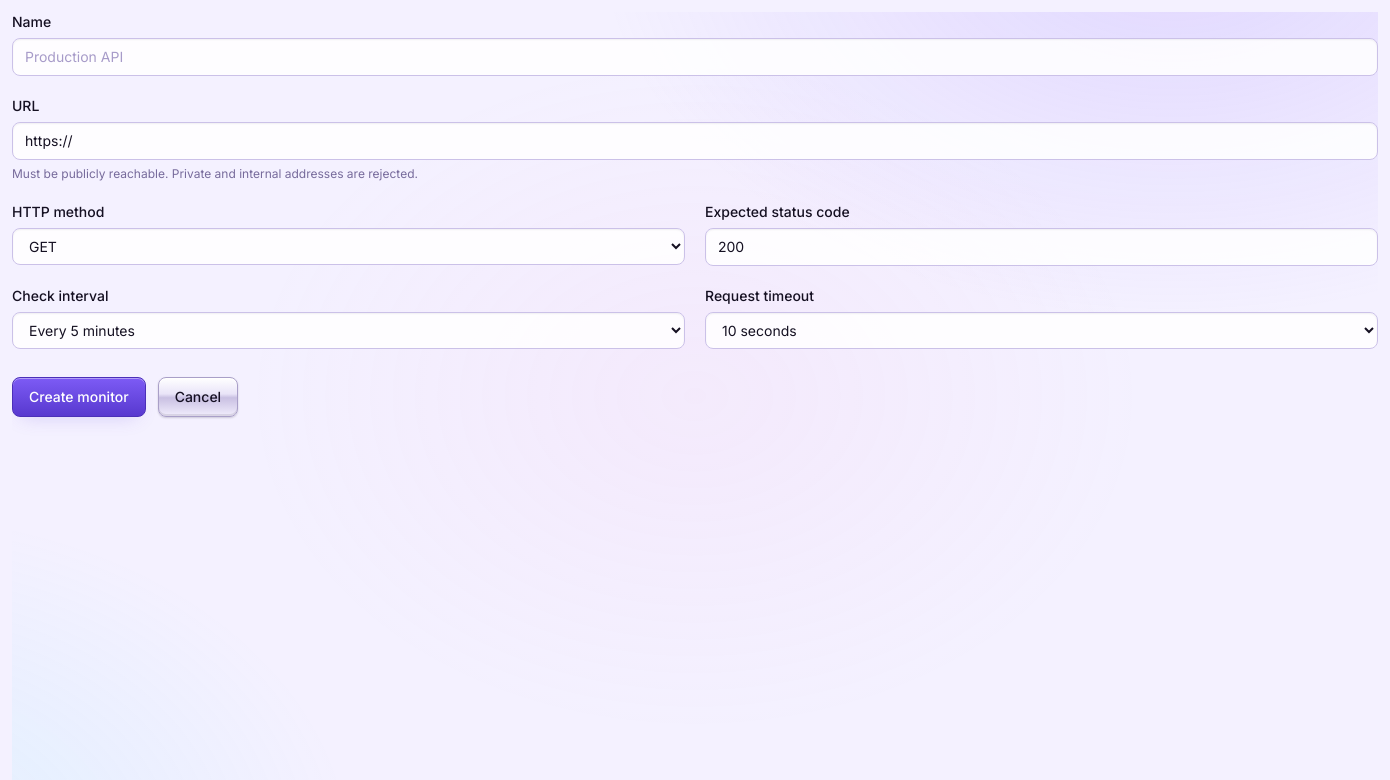
Test: MonitorForm › shows errors returned by the server next to the right field
Type "Router" into the field labelled "Name". click: [695, 57]
box: [12, 38, 1378, 76]
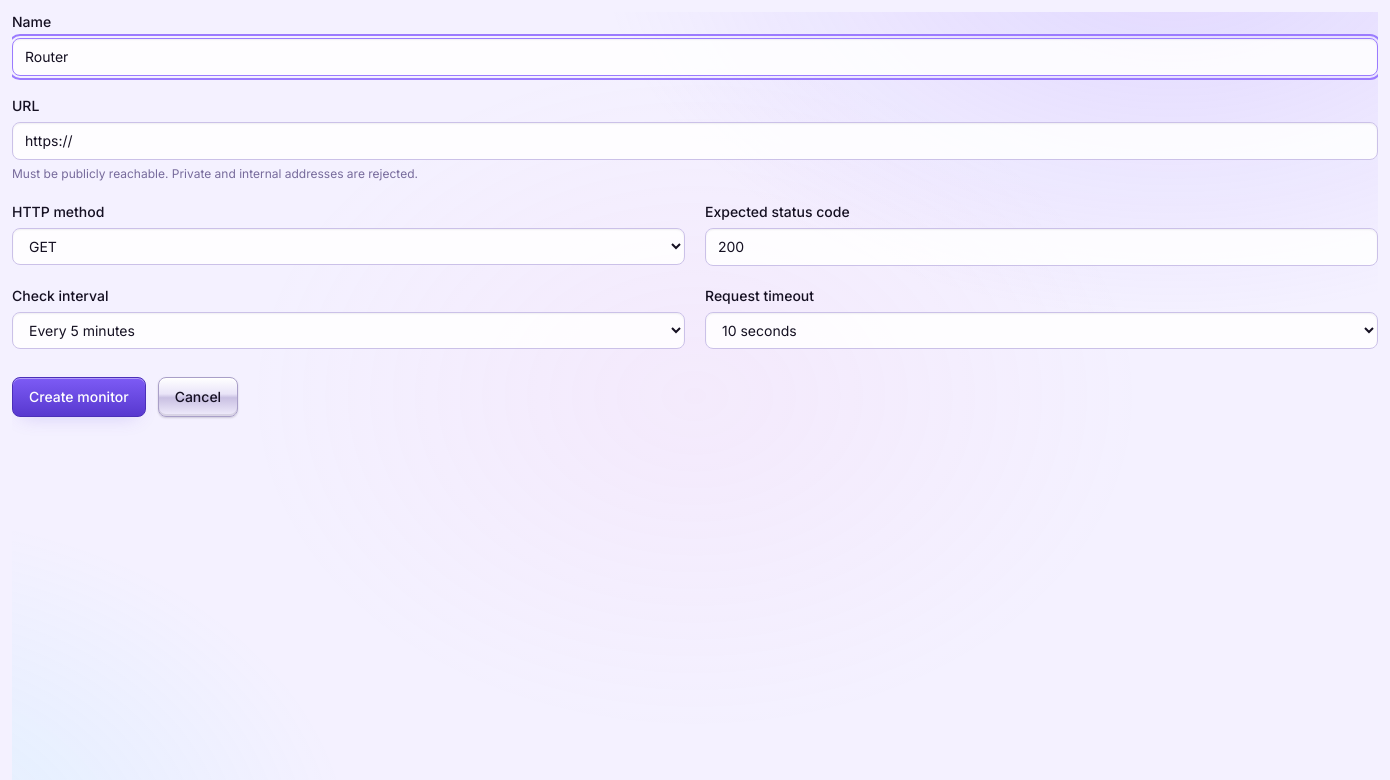
Replace the text in the field labelled "URL" with "http://192.168.1.1/". click: [695, 141]
box: [12, 122, 1378, 160]
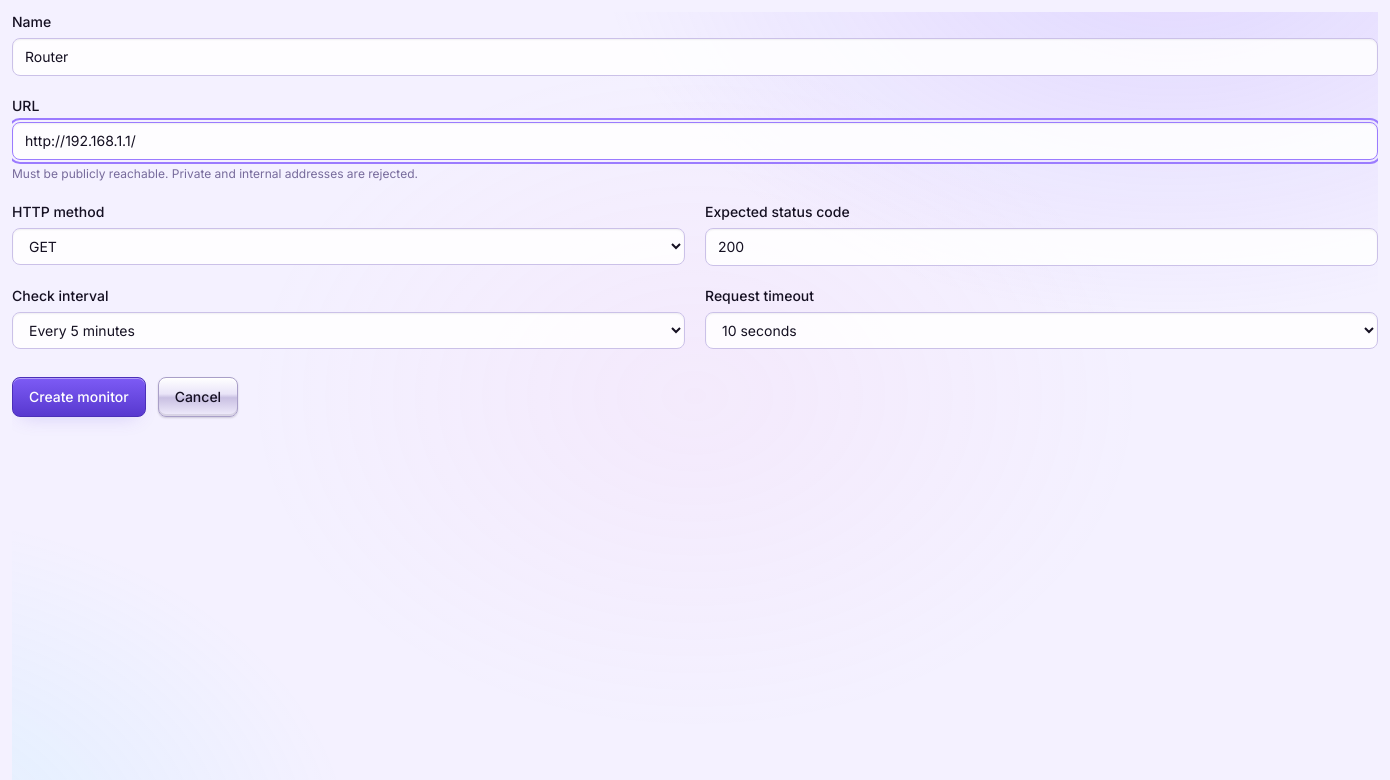
Click the button "Create monitor". click: [79, 397]
box: [12, 377, 146, 417]
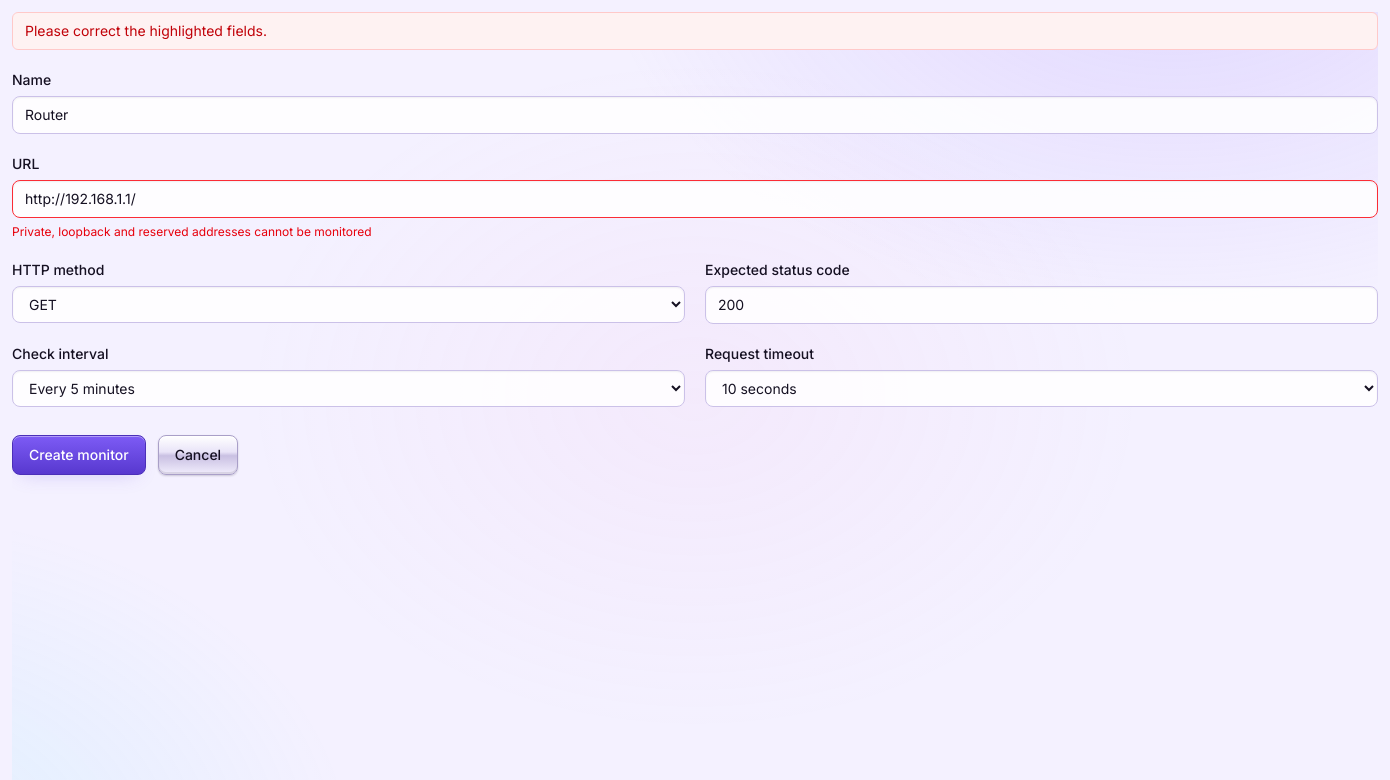
Now the message reads "Please correct the highlighted fields.", box [25, 22, 267, 39]
Now the text "Private, loopback and reserved addresses cannot be monitored" is shown, box [12, 224, 372, 239]
